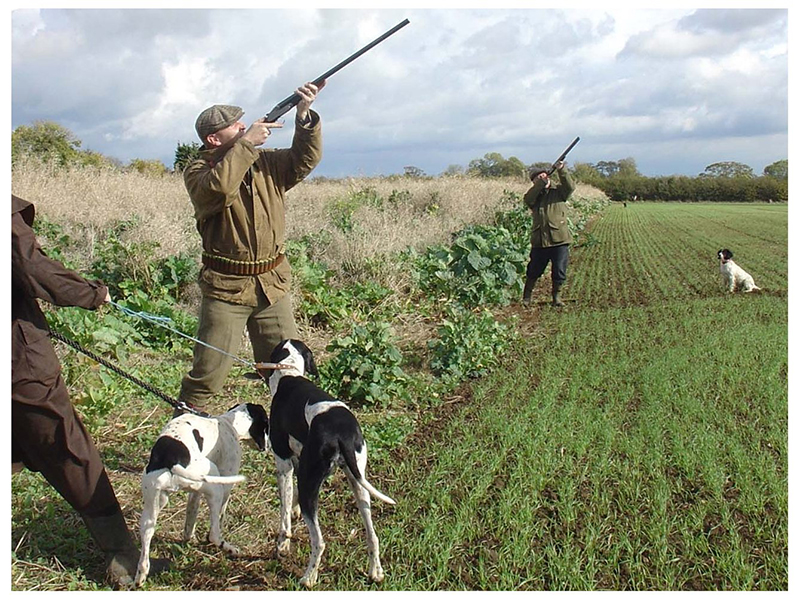cacciatore: (162, 9, 415, 341), (521, 135, 586, 299)
cane da caccia: (259, 332, 395, 586), (119, 393, 270, 590), (715, 245, 770, 303)
fucile: (206, 17, 428, 161), (539, 136, 599, 185)
